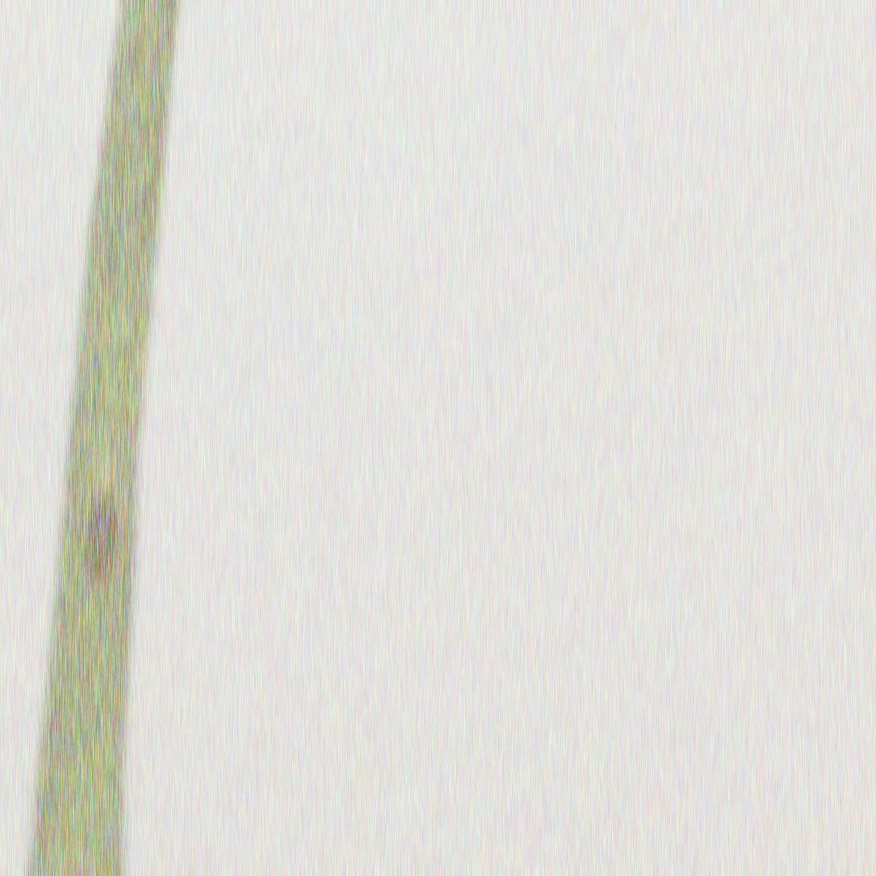Brown_Spot: (61, 459, 133, 593)
